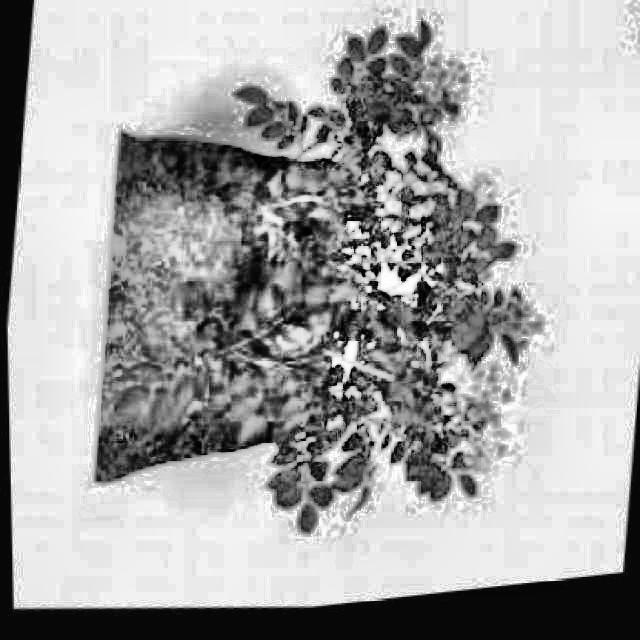plants: (166, 0, 589, 583)
